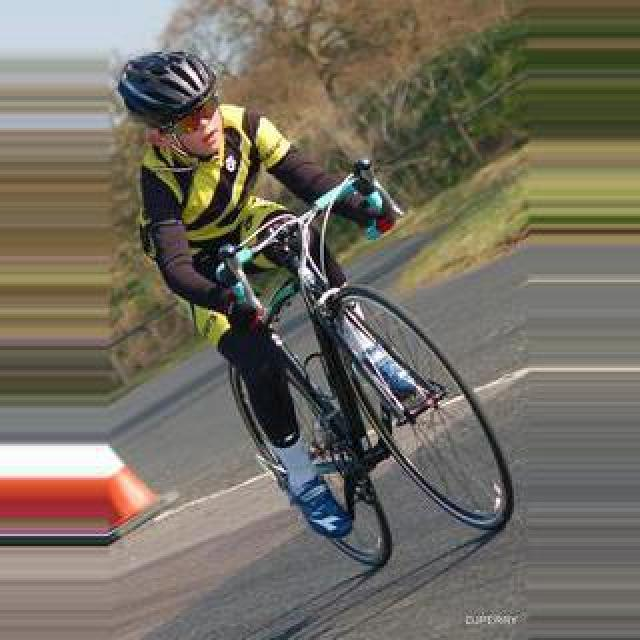MC-Bike: (128, 32, 358, 562)
Person: (216, 156, 518, 572)
